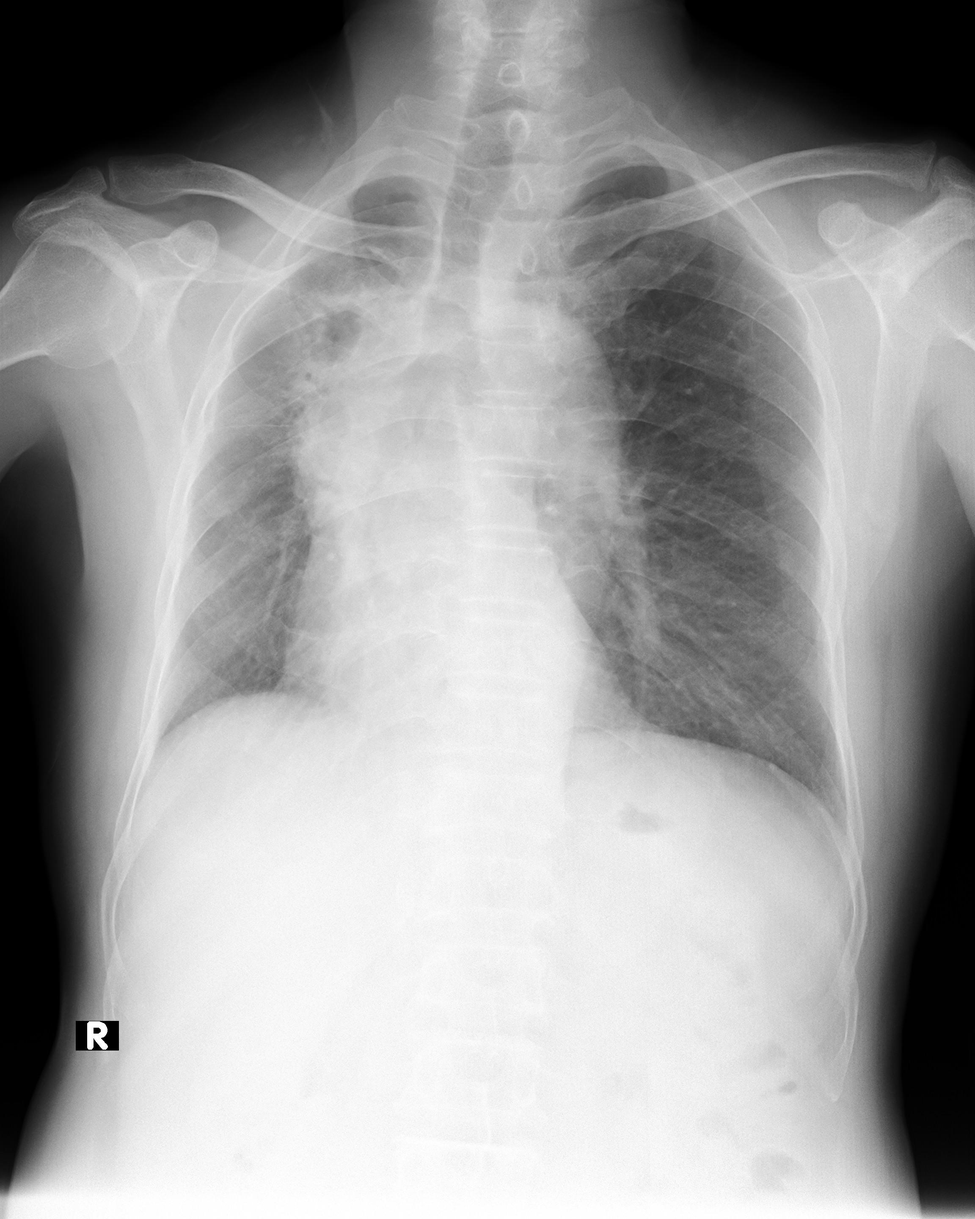Aortic enlargement: (473, 296, 615, 542)
Pulmonary fibrosis: (218, 210, 356, 395)
